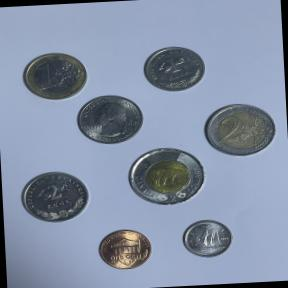1 Euro: (20, 49, 90, 103)
2 Euro: (199, 100, 280, 160)
Canda-10cent-: (178, 215, 238, 262)
Canda-2Dollar-: (123, 144, 209, 212)
Croatia-2Kune-: (16, 168, 92, 226)
US-1cent-: (94, 225, 156, 276)
US-25cent-: (74, 92, 145, 146)
